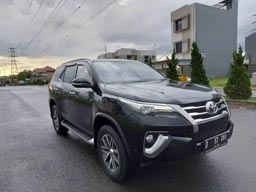plat: (205, 130, 228, 152)
